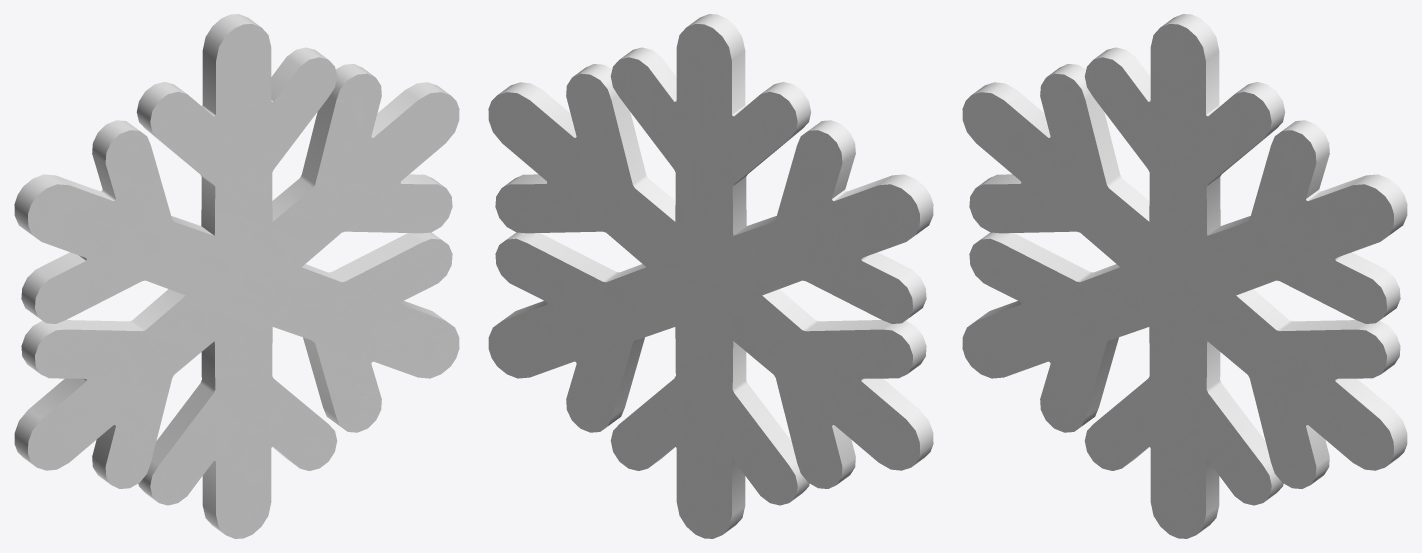
Rendered from snow.obj.
3 views of the same model, side by side, from view 1: azimuth 30°, elevation 25°; view 2: azimuth 150°, elevation 25°; view 3: azimuth 330°, elevation 25° (orthographic).
Visible parts, largest first — view 1: Snowflake; view 2: Snowflake; view 3: Snowflake.
Part boxes in pixels (x1,y1,x2,y2): Snowflake: (14, 14, 459, 538); Snowflake: (488, 14, 933, 538); Snowflake: (962, 14, 1407, 538).
Size of the model in its own units: 0.00548 by 0.00623 by 0.000296.
